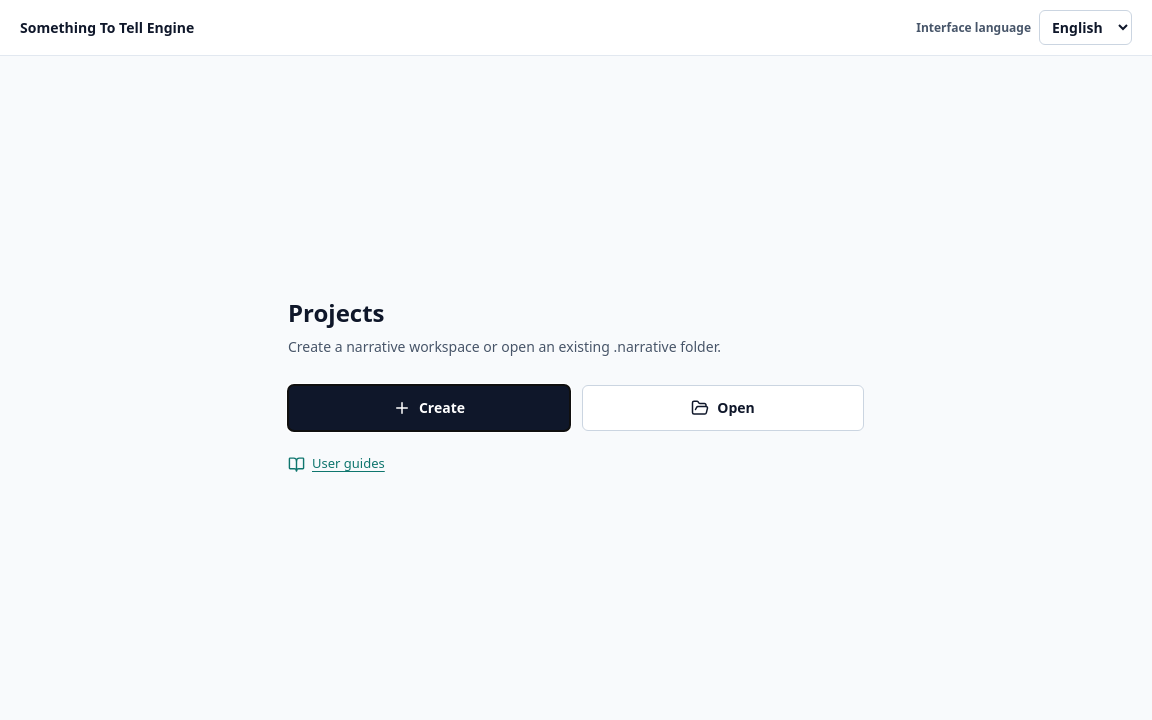
Scenario: App shell, sessions, and playback › loads projects from a directory entered in the open dialog
The image size is (1152, 720).
Click the button "Open".
click(723, 408)  # box top-left (582, 385), bottom-right (864, 431)
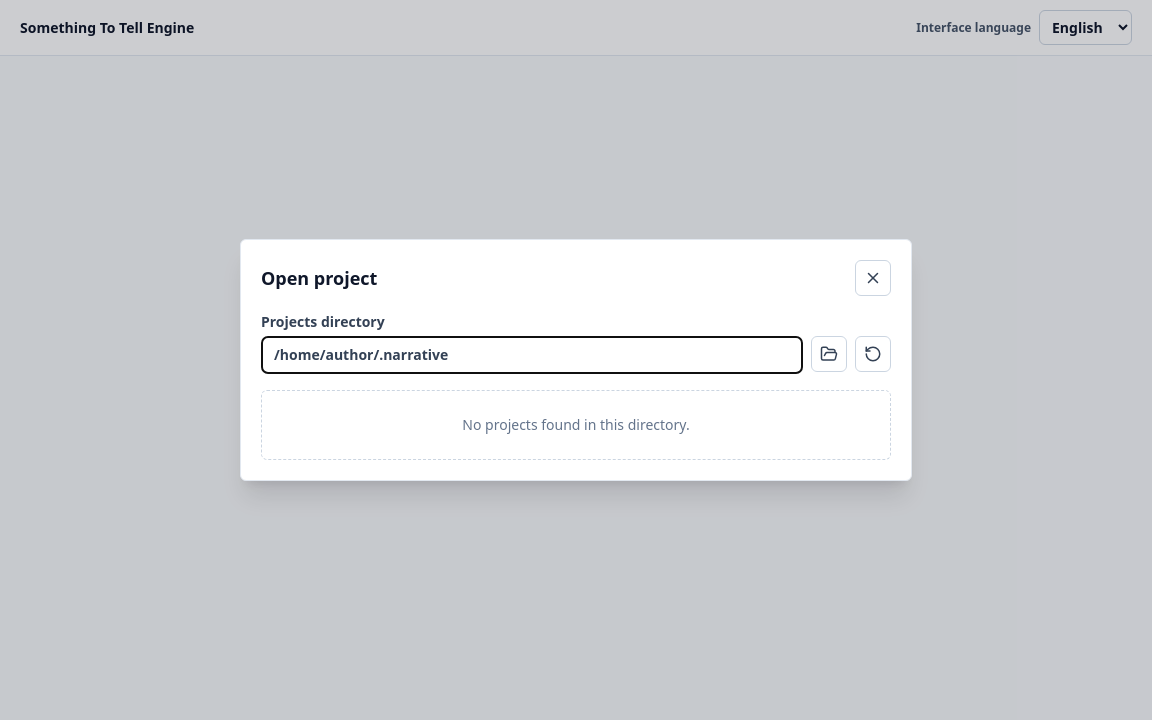
Now the field labelled "Projects directory" holds "/home/author/.narrative"
Replace the text in the field labelled "Projects directory" with "/mnt/shared-stories" at (532, 355), box top-left (261, 336), bottom-right (803, 374)
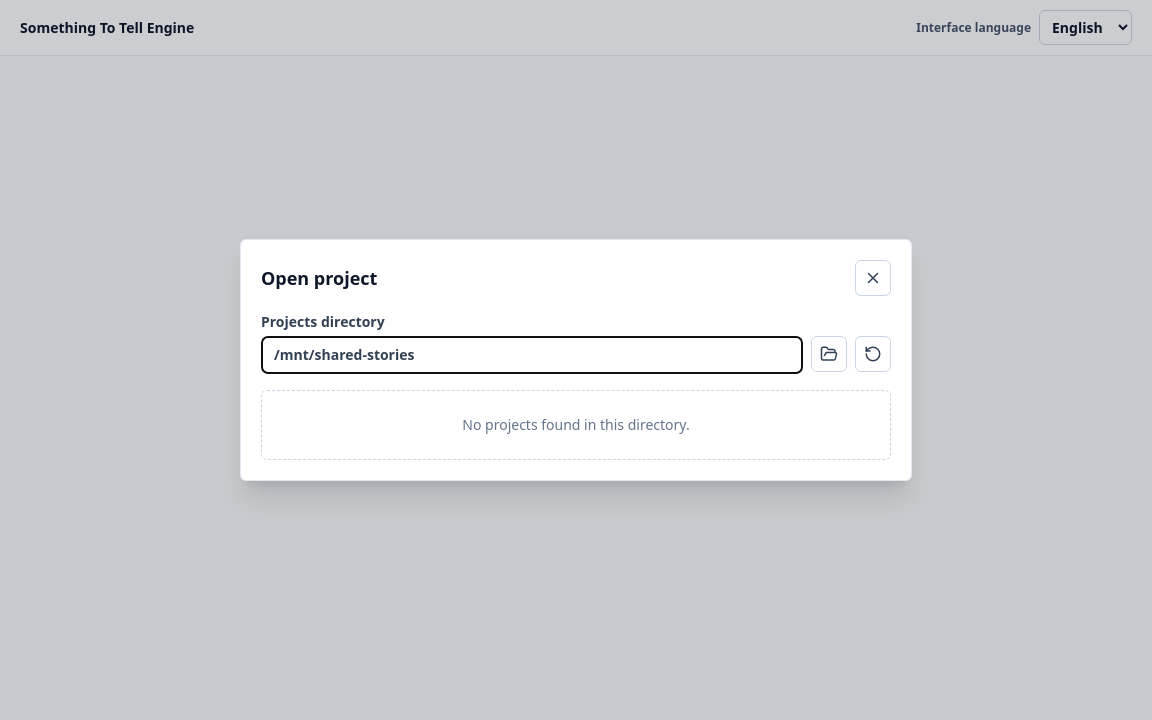
Click the button named "Refresh project list".
click(873, 354)  # box top-left (855, 336), bottom-right (891, 372)
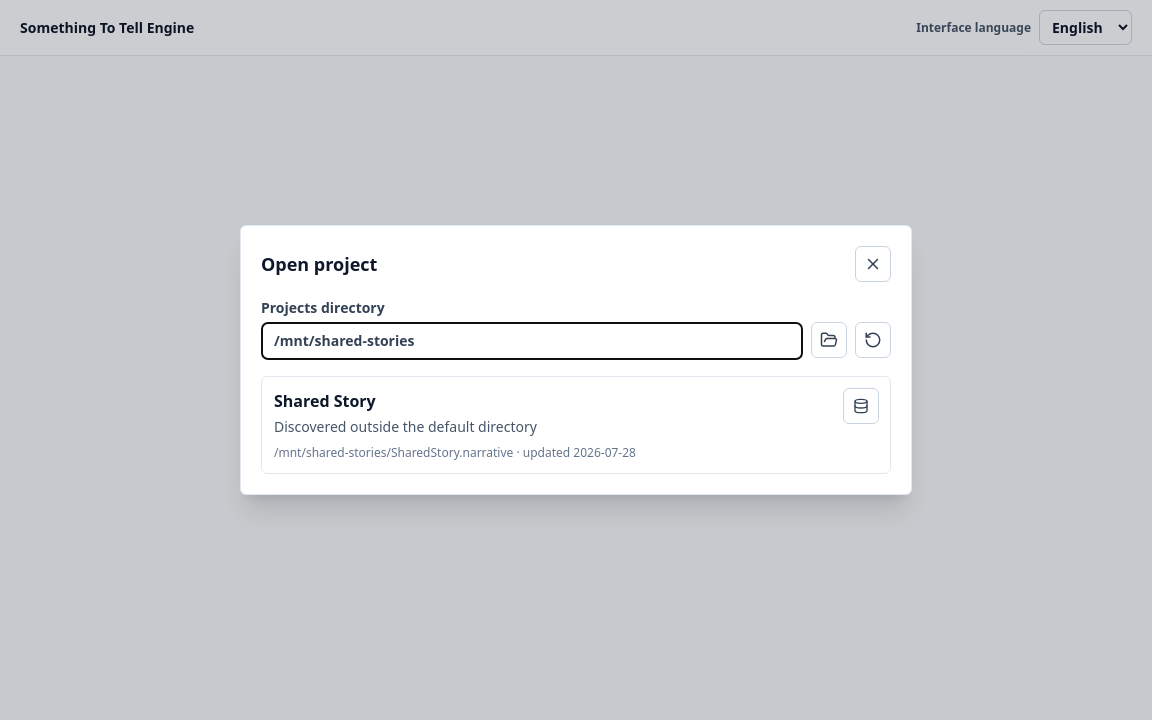
Now the button "Shared Story" is shown, box top-left (261, 376), bottom-right (891, 474)
